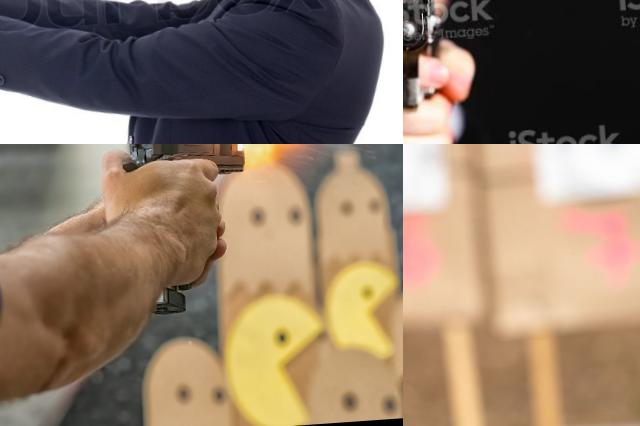handgun: (112, 144, 260, 322), (403, 235, 461, 410), (403, 0, 461, 144), (0, 0, 61, 41)
